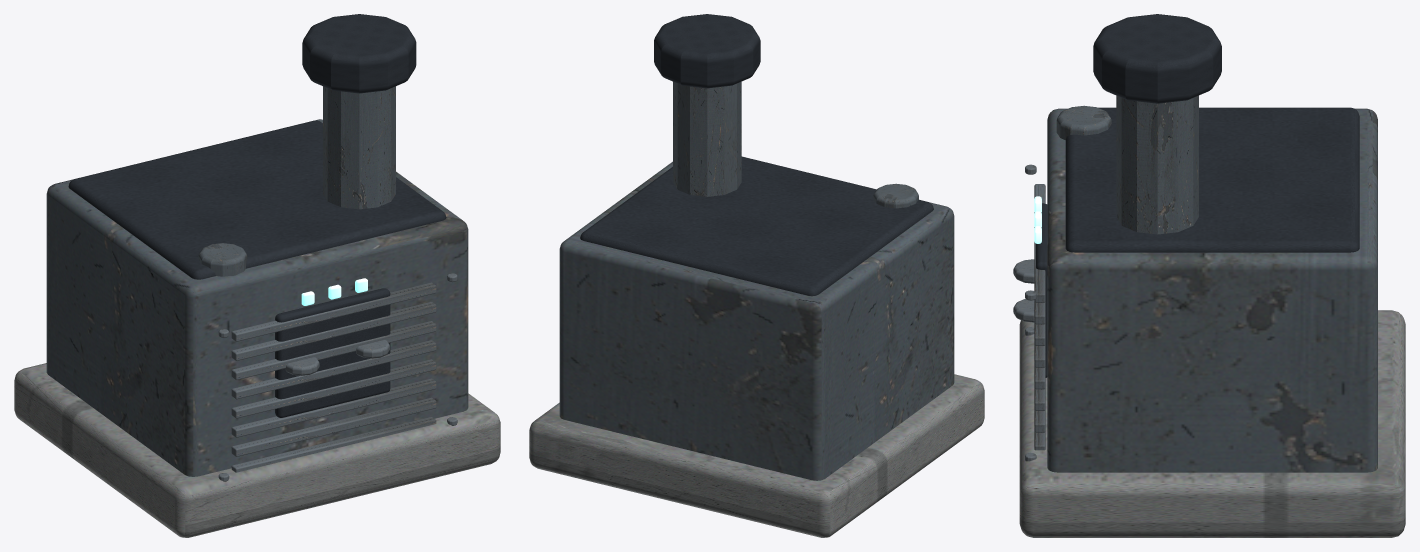
File: machinery.glb
The picture shows the model from 3 angles, left to right: view 1: azimuth 30°, elevation 25°; view 2: azimuth 150°, elevation 25°; view 3: azimuth 270°, elevation 25°; orthographic projection. The views are drawn at different scales.
Parts seen in each view (by area): view 1: MachineHousing, MachineBase, MachineTop, MachineStack, MachineStackTop, MachinePanel, MachineLouver01, MachineLouver02, MachineLouver06, MachineLouver07, MachineLouver03, MachineLouver04 (+3 smaller); view 2: MachineHousing, MachineTop, MachineBase, MachineStack, MachineStackTop, MachinePipe; view 3: MachineHousing, MachineBase, MachineTop, MachineStack, MachineStackTop, MachinePipe, MachinePanel, MachineLouver07.
Part boxes in pixels (x1=…): MachineHousing: x1=46, y1=119, x2=468, y2=476; MachineBase: x1=14, y1=363, x2=500, y2=537; MachineTop: x1=68, y1=120, x2=446, y2=279; MachineStack: x1=323, y1=86, x2=395, y2=209; MachineStackTop: x1=302, y1=14, x2=416, y2=93; MachinePanel: x1=275, y1=288, x2=390, y2=417; MachineLouver01: x1=231, y1=397, x2=436, y2=456; MachineLouver02: x1=231, y1=378, x2=436, y2=437; MachineLouver06: x1=231, y1=302, x2=436, y2=360; MachineLouver07: x1=231, y1=282, x2=436, y2=341; MachineLouver03: x1=231, y1=359, x2=436, y2=418; MachineLouver04: x1=231, y1=340, x2=436, y2=399; MachineHousing: x1=559, y1=161, x2=954, y2=480; MachineTop: x1=580, y1=156, x2=933, y2=296; MachineBase: x1=529, y1=374, x2=984, y2=537; MachineStack: x1=673, y1=81, x2=741, y2=196; MachineStackTop: x1=654, y1=14, x2=760, y2=88; MachinePipe: x1=873, y1=183, x2=918, y2=208; MachineHousing: x1=1047, y1=108, x2=1377, y2=472; MachineBase: x1=1019, y1=310, x2=1405, y2=537; MachineTop: x1=1065, y1=107, x2=1359, y2=252; MachineStack: x1=1116, y1=95, x2=1198, y2=234; MachineStackTop: x1=1093, y1=14, x2=1221, y2=103; MachinePipe: x1=1056, y1=105, x2=1111, y2=139; MachinePanel: x1=1036, y1=203, x2=1047, y2=377; MachineLouver07: x1=1034, y1=184, x2=1045, y2=302.
Size of the model in its own units: 4.6 by 5.5 by 4.27.
5 materials, 5 textured.
